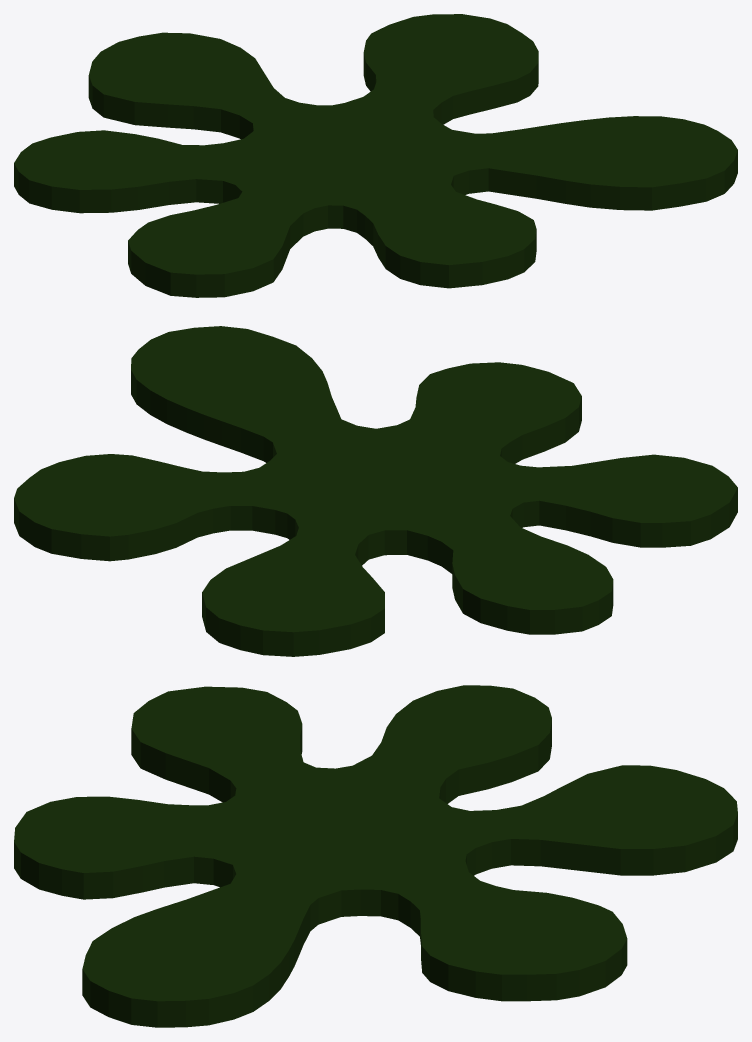
The model's file is badTomato.dae.
3 renders of one model, top to bottom at view 1: azimuth 30°, elevation 25°; view 2: azimuth 150°, elevation 25°; view 3: azimuth 270°, elevation 25°, orthographic. The views are drawn at different scales.
Visible parts, largest first — view 1: Plane; view 2: Plane; view 3: Plane.
Part boxes in pixels (x1,y1,x2,y2): Plane: (14,14,737,297); Plane: (14,326,737,656); Plane: (14,685,737,1027).
Bounding box in the file's own units: 1.66 × 0.0648 × 1.6.
